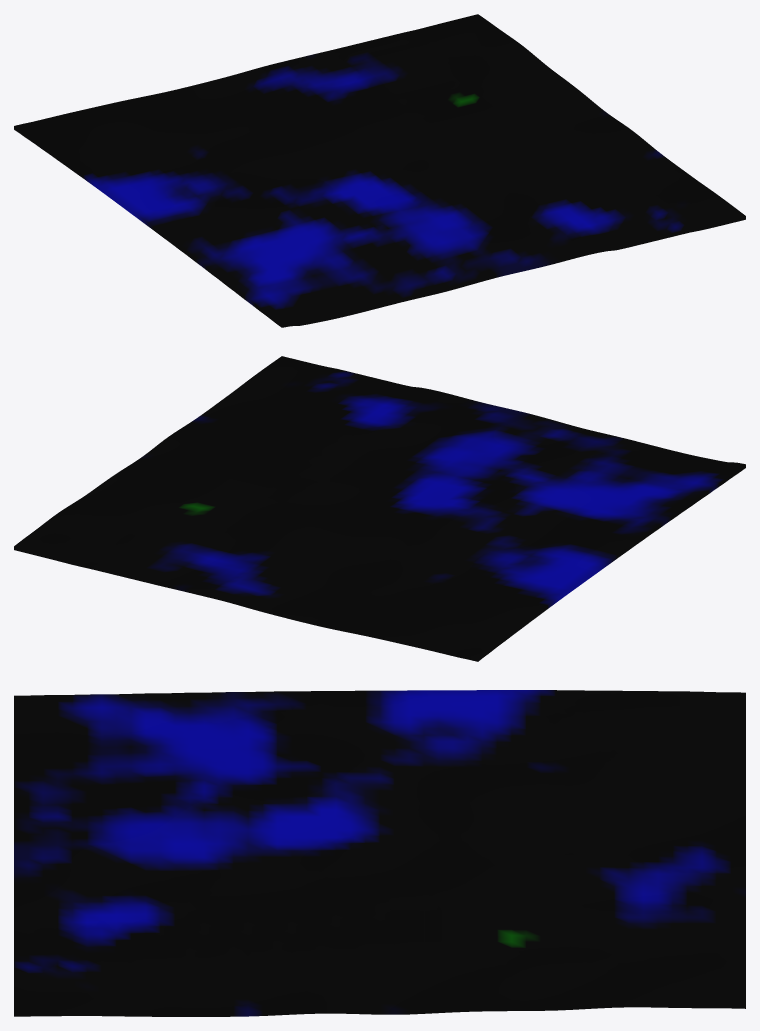
File: coast_11_9.glb
3 renders of one model, top to bottom at view 1: azimuth 30°, elevation 25°; view 2: azimuth 150°, elevation 25°; view 3: azimuth 270°, elevation 25°, orthographic. The views are drawn at different scales.
Visible parts, largest first — view 1: terrain; view 2: terrain; view 3: terrain.
Part boxes in pixels (x1,y1,x2,y2): terrain: [14, 14, 745, 327]; terrain: [14, 356, 745, 661]; terrain: [14, 690, 745, 1016].
Bounding box in the file's own units: 200 × 5.52 × 200.
